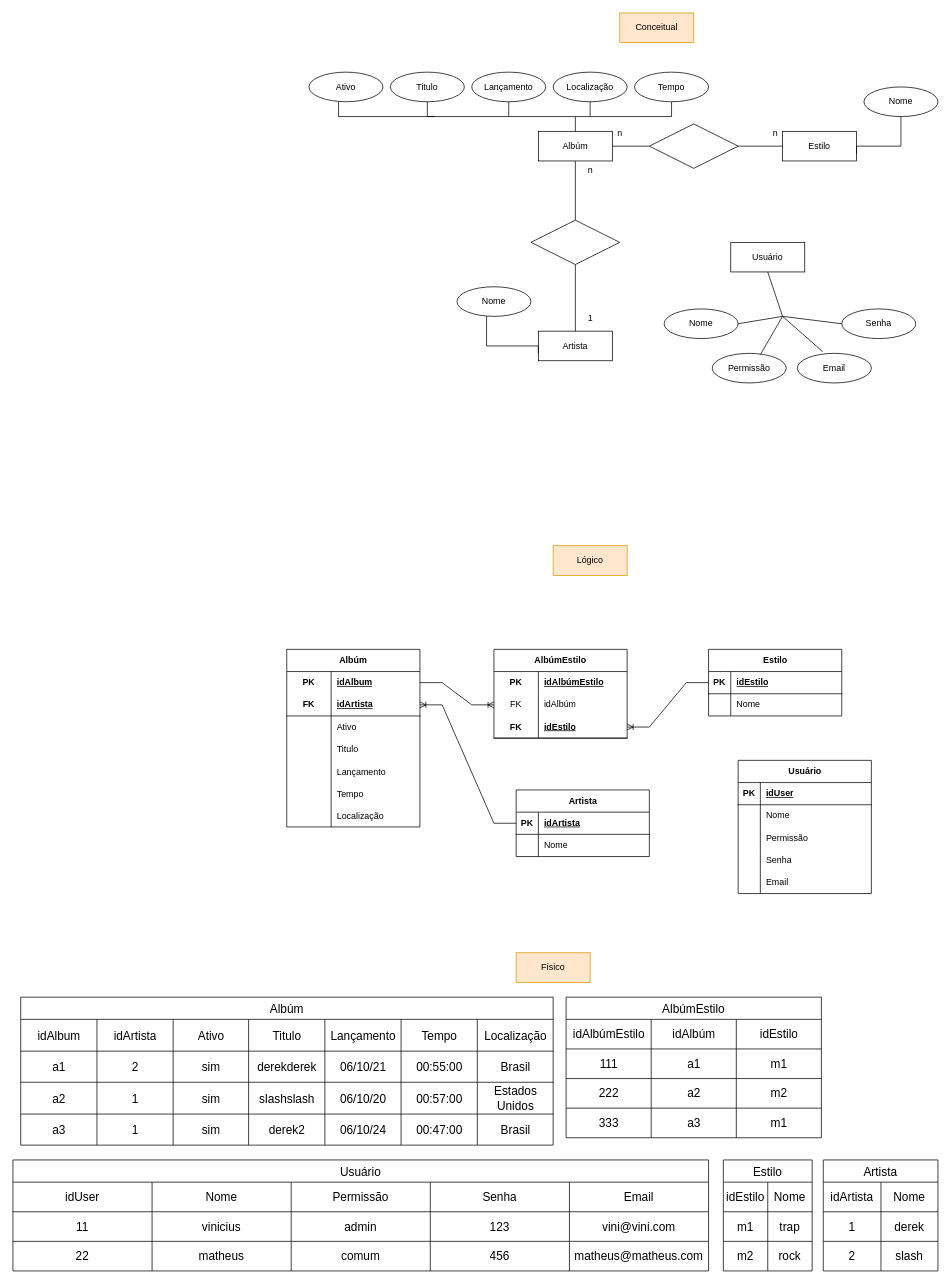
The diagram is 951 pixels wide and 1284 high, and some of its shapes have lost their labels. Each missing label, with the box of its shape:
pertence: (530, 219, 620, 265)
possui: (649, 123, 738, 168)
